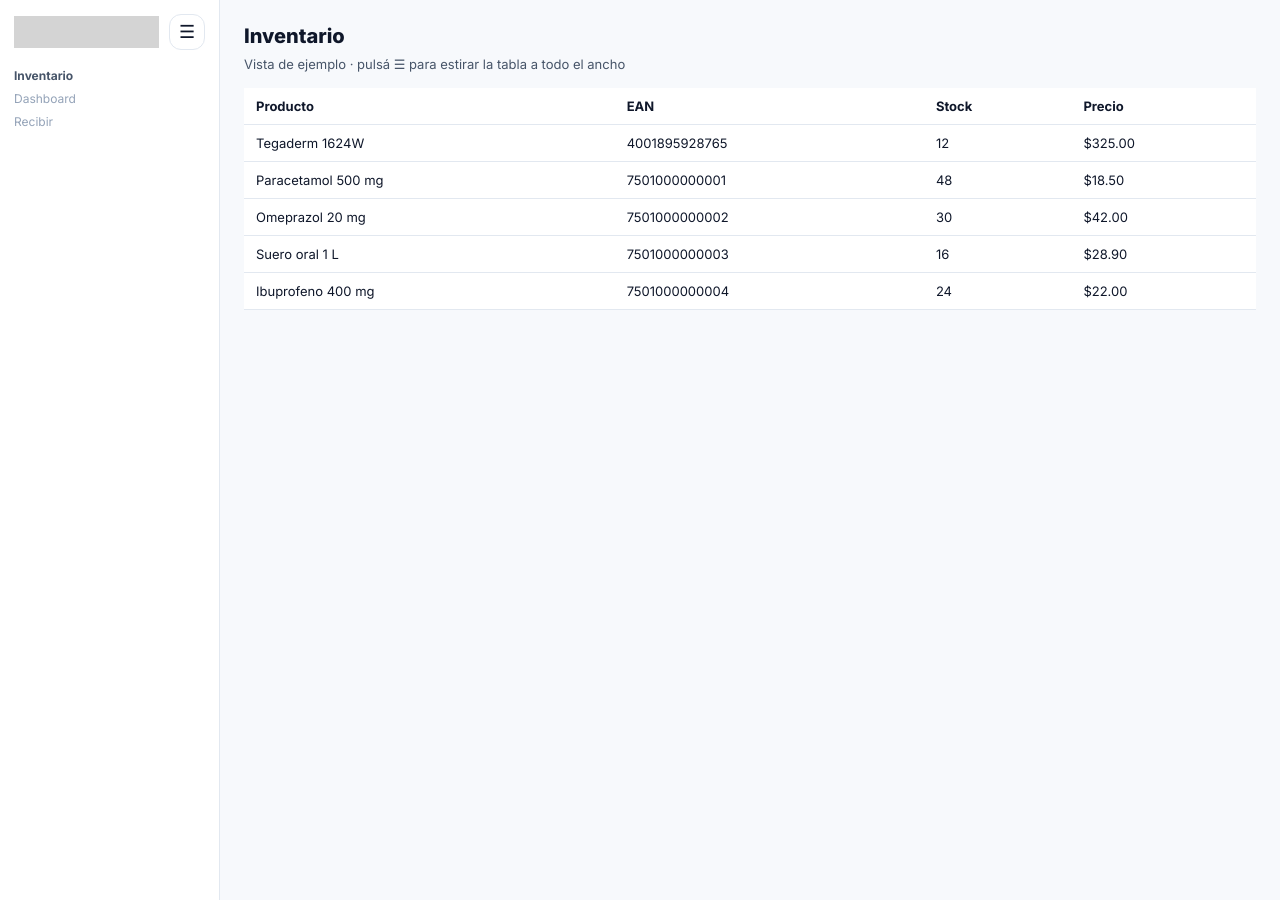
minimizar el menú estira el main y Fijar menú lo ancla otra vez
Click the button named "Minimizar menú de navegación". click: [187, 32]
box: [169,14,205,50]
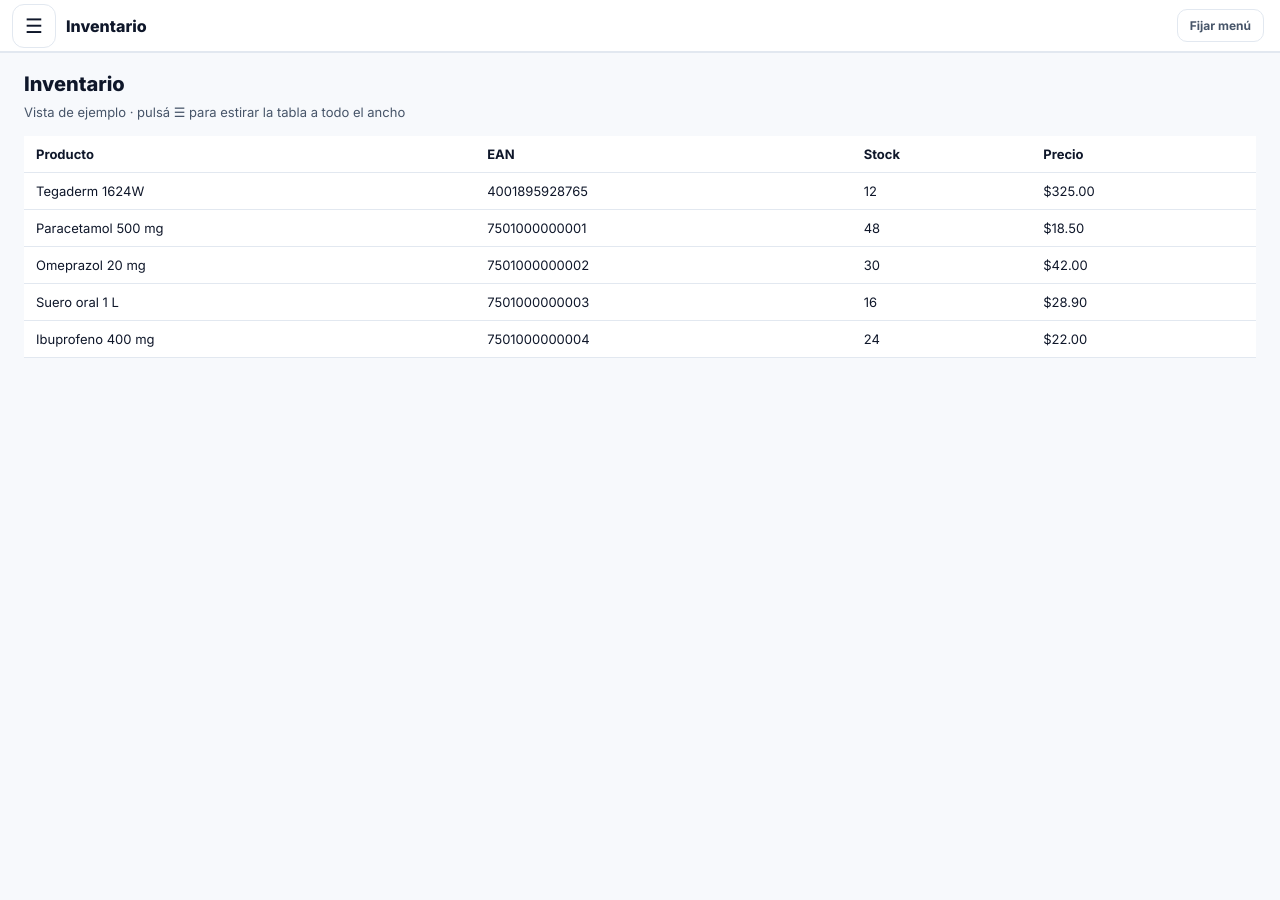
Result: the element with test id "admin-collapsed-topbar" shows "Inventario" at [66,16,147,36]
Click the button named "Abrir menú de navegación". click: [34, 26]
box: [12,4,56,48]
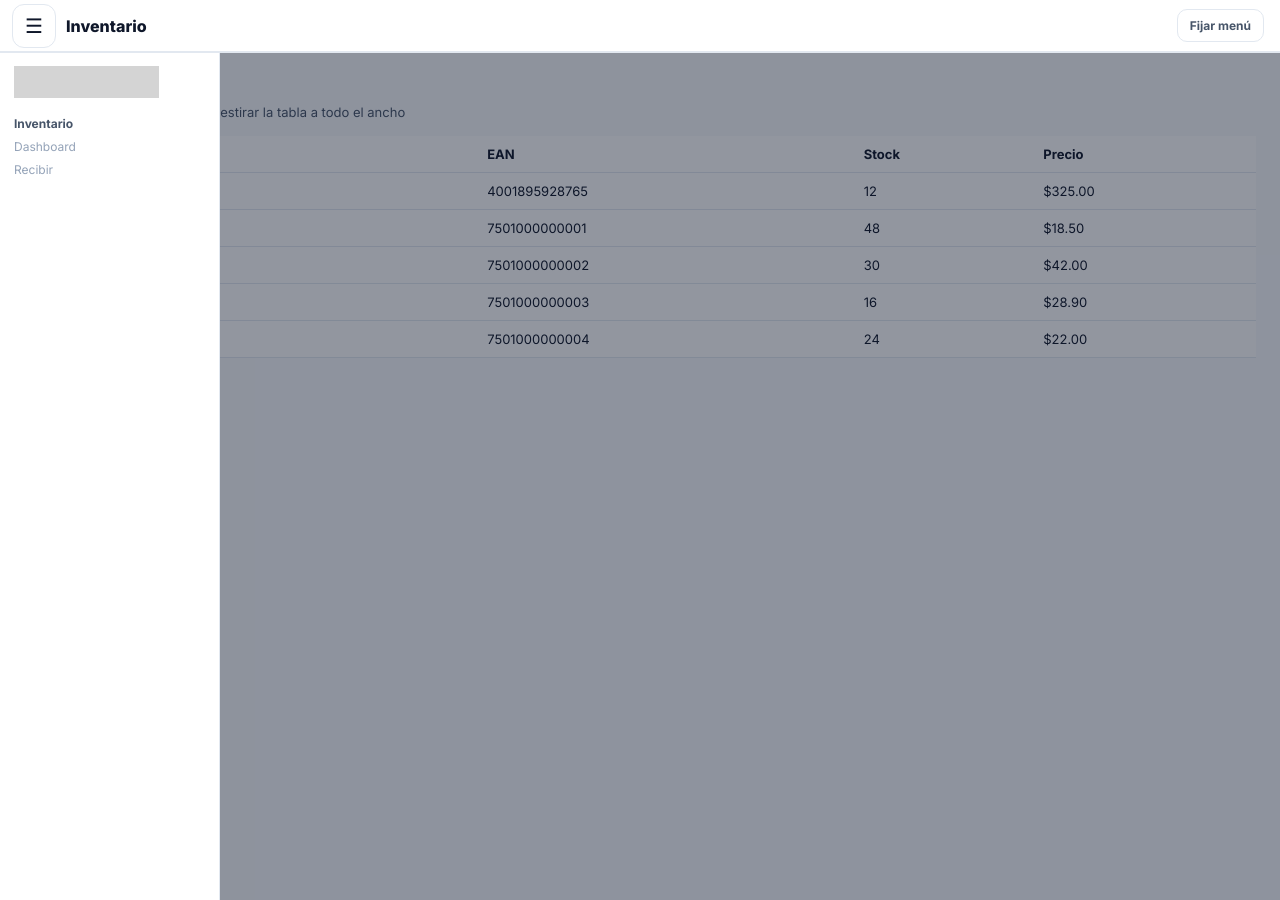
Result: the element with class "farmacapital-admin-sidebar" has attribute data-overlay="1" at [0,52,220,899]
Click the button "Fijar menú". click: [1220, 26]
box: [1177,9,1264,42]
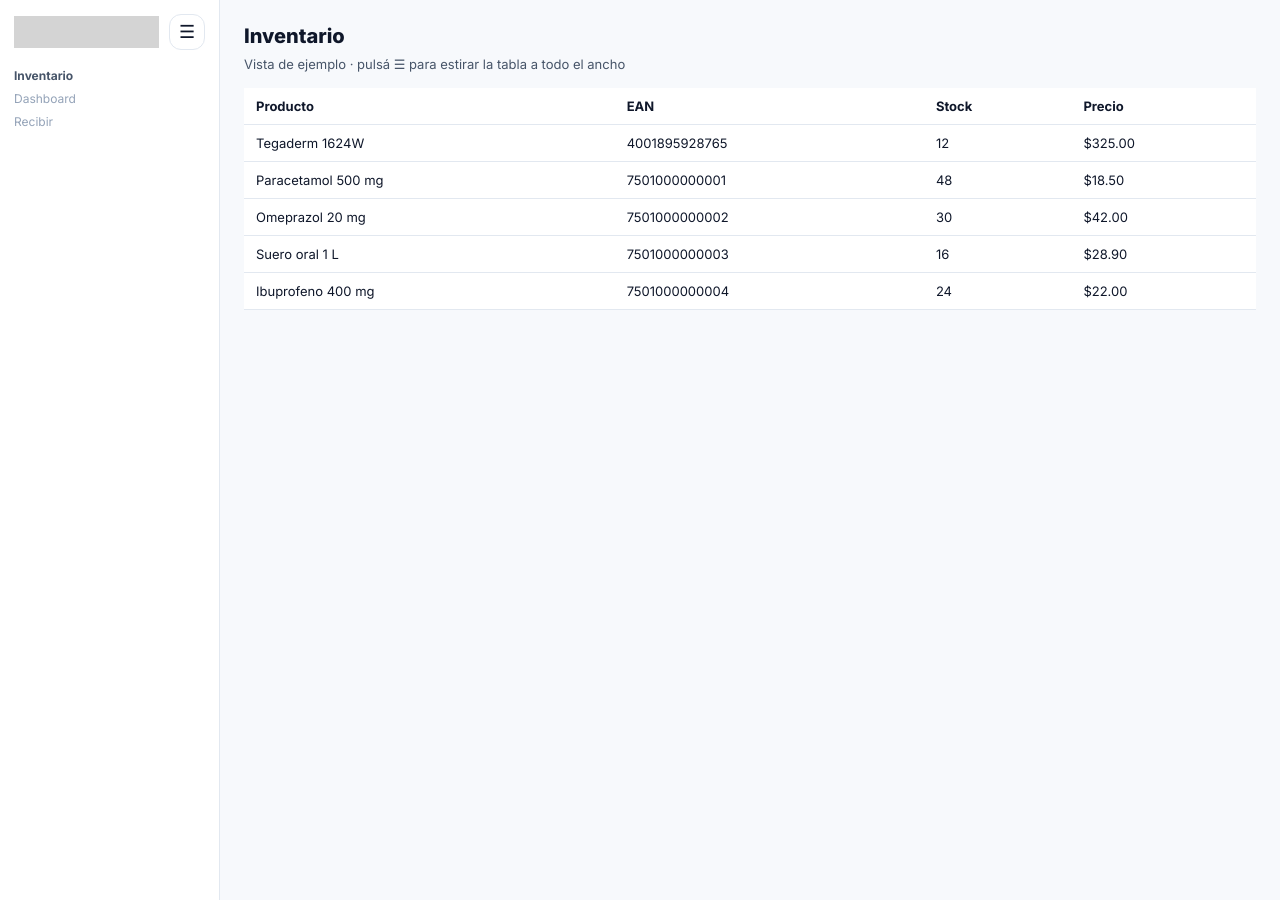
Result: the button named "Minimizar menú de navegación" is shown at [169,14,205,50]
